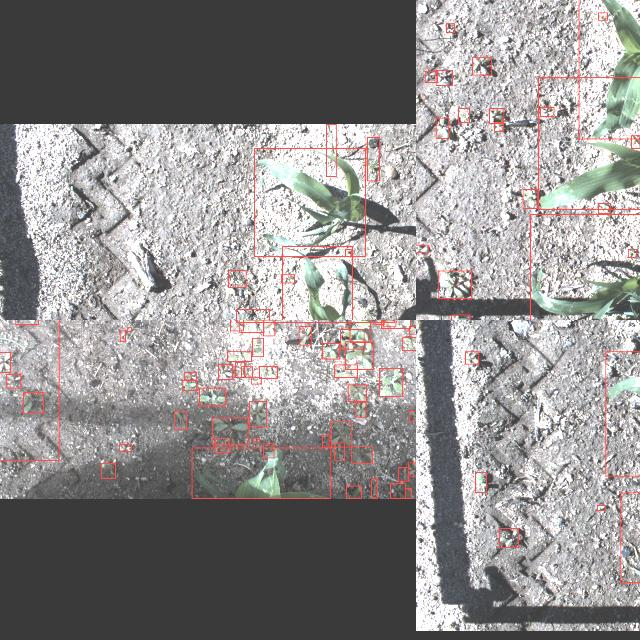crop: (537, 77, 640, 209), (254, 148, 366, 256), (530, 213, 640, 320), (578, 0, 640, 138), (192, 448, 331, 498), (282, 245, 352, 320)
weed: (0, 320, 59, 460), (438, 270, 472, 298), (212, 418, 248, 444), (345, 341, 373, 369), (380, 368, 402, 397), (367, 136, 379, 180), (326, 123, 336, 175), (198, 387, 226, 405), (331, 422, 352, 446), (340, 329, 364, 349), (350, 320, 370, 342), (23, 392, 43, 412), (250, 402, 266, 426), (499, 528, 518, 548), (236, 309, 270, 320), (472, 56, 492, 74), (352, 446, 372, 464), (334, 364, 358, 378), (348, 384, 366, 402), (522, 188, 538, 208), (228, 270, 246, 286), (240, 320, 264, 332), (322, 343, 340, 359), (436, 118, 448, 138), (227, 351, 251, 361), (381, 320, 410, 328), (252, 338, 264, 357), (488, 108, 504, 122), (436, 70, 452, 84), (101, 462, 115, 478), (214, 438, 230, 452), (218, 364, 232, 380), (390, 484, 406, 498), (0, 352, 11, 372), (259, 366, 277, 378), (175, 411, 187, 429), (476, 472, 486, 492), (7, 374, 21, 388), (402, 336, 416, 350), (346, 486, 362, 498), (300, 326, 310, 344), (334, 442, 344, 460), (424, 70, 438, 82), (465, 351, 479, 363), (263, 320, 274, 335), (458, 108, 469, 122), (264, 444, 274, 458), (183, 380, 197, 390), (356, 402, 366, 416), (398, 467, 408, 481), (230, 320, 243, 330), (540, 106, 554, 115), (598, 203, 610, 213), (371, 479, 377, 499), (631, 134, 640, 147), (450, 314, 469, 320), (236, 362, 244, 376), (408, 462, 416, 475), (242, 366, 252, 376), (282, 274, 294, 282), (416, 244, 428, 252), (120, 444, 132, 452), (185, 372, 197, 380), (322, 435, 330, 447), (494, 122, 504, 130), (446, 22, 454, 32), (251, 376, 261, 384), (408, 411, 416, 421), (382, 320, 395, 326), (628, 249, 636, 257), (598, 12, 608, 18), (120, 330, 126, 340), (405, 488, 411, 498), (409, 325, 416, 333), (345, 248, 351, 256), (597, 504, 605, 510), (376, 320, 384, 324), (253, 438, 259, 442), (128, 327, 132, 331)
